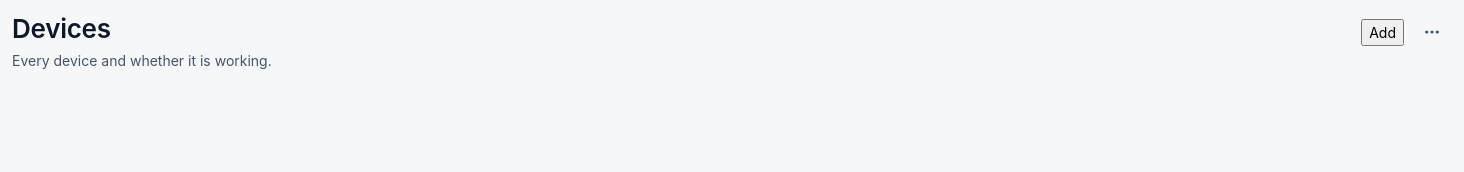
Scenario: PageHeader › has a focusable h1, one primary action and a More actions menu
Click the button named "More actions": (1432, 32) top-left (1412, 12), bottom-right (1452, 52)
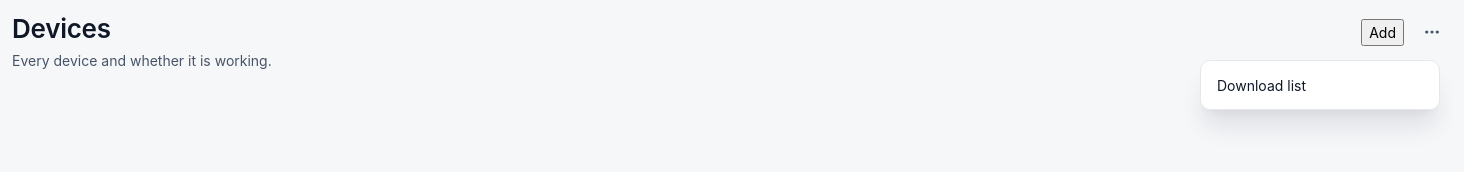
Click the menu item "Download list": (1320, 85) top-left (1205, 65), bottom-right (1435, 105)
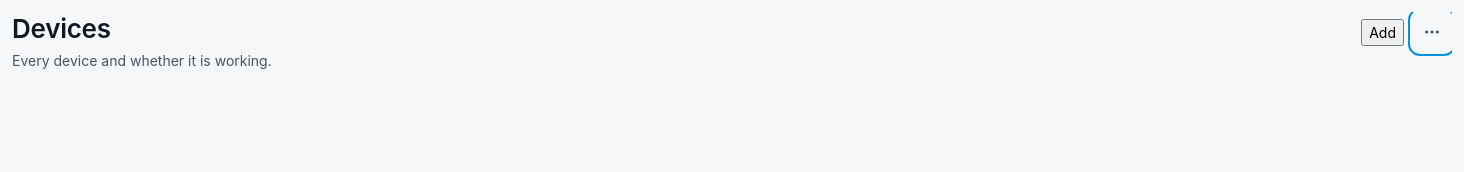
Now the menu is gone
